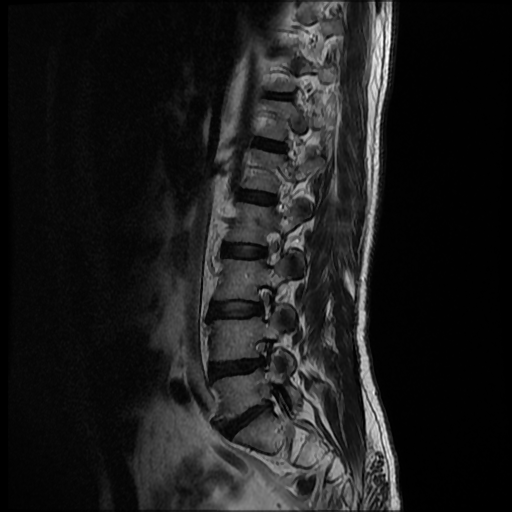RFS0: (246, 277, 281, 328), (256, 219, 287, 275)
RFS3: (242, 333, 281, 382)
